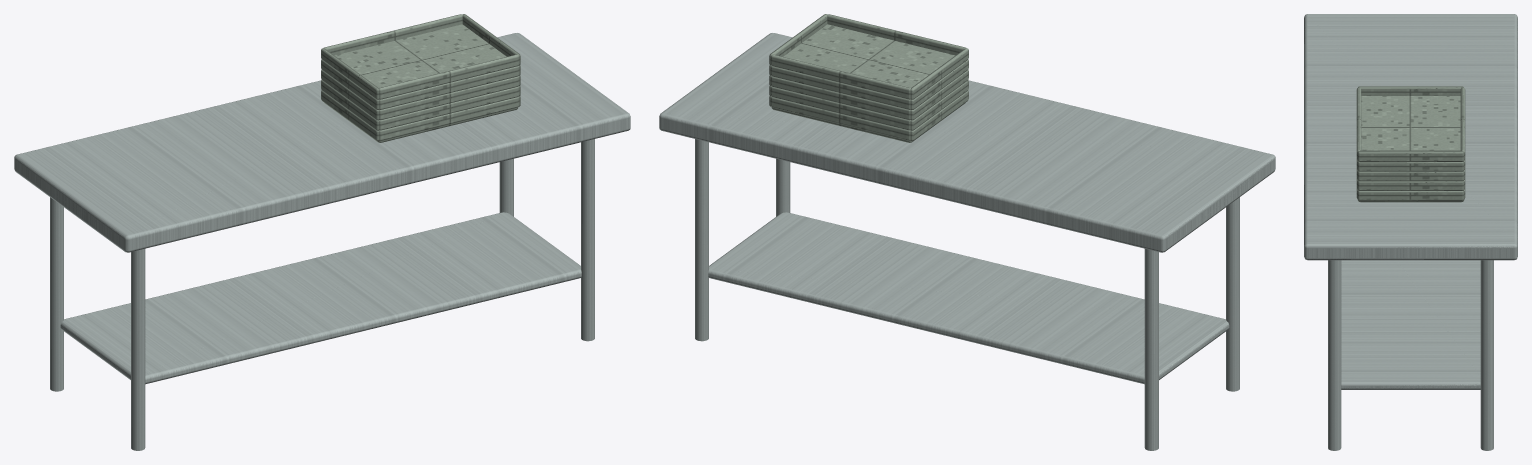
Rendered from detail-security-table-1.glb.
The picture shows the model from 3 angles, left to right: view 1: azimuth 30°, elevation 25°; view 2: azimuth 150°, elevation 25°; view 3: azimuth 270°, elevation 25°; orthographic projection. The views are drawn at different scales.
Visible parts, largest first — view 1: worktop, shelf, tray_rim (×12), leg (×4), tray_bottom; view 2: worktop, shelf, tray_rim (×12), leg (×4), tray_bottom; view 3: worktop, shelf, tray_rim (×8), tray_bottom, leg (×2).
Boxes of the visible parts, box(x1,y1,x2,y2) form: worktop: box(14, 33, 630, 252); shelf: box(60, 212, 581, 384); tray_rim (×12): box(321, 14, 520, 140); leg (×4): box(50, 139, 594, 450); tray_bottom: box(334, 24, 506, 87); worktop: box(659, 33, 1275, 252); shelf: box(708, 212, 1229, 384); tray_rim (×12): box(769, 14, 968, 140); leg (×4): box(695, 139, 1239, 450); tray_bottom: box(783, 24, 955, 87); worktop: box(1304, 14, 1517, 260); shelf: box(1341, 260, 1480, 389); tray_rim (×8): box(1356, 86, 1465, 200); tray_bottom: box(1361, 96, 1460, 150); leg (×2): box(1328, 260, 1493, 450).
Size of the model in its own units: 1.8 by 0.98 by 0.7.
Materials: 2 (2 with a texture image).
